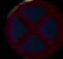No Stopping: (3, 0, 59, 55)
